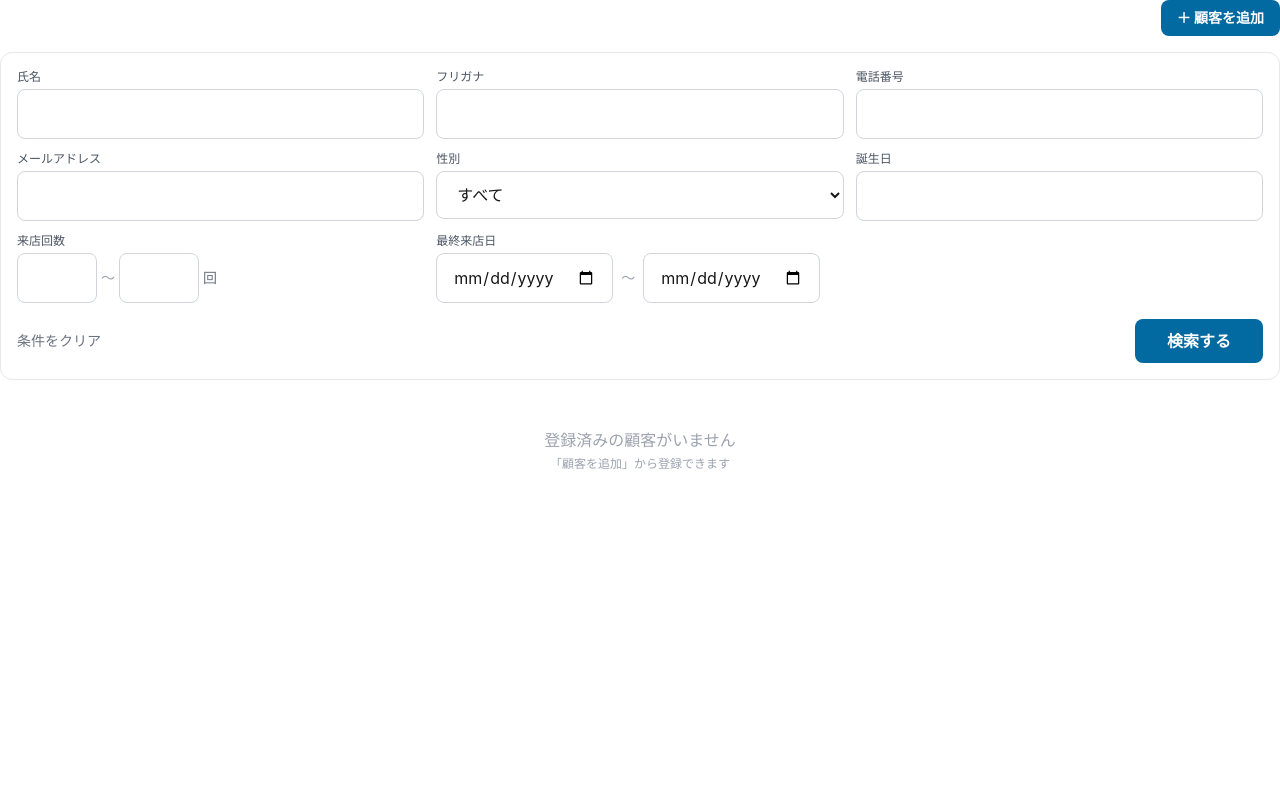
複数施設 → 追加フォームに施設セレクタが出る
What coordinates should you click on to do the following:
click the button "＋ 顧客を追加"
I would click on:
 (1220, 18)
Its box is [1161,0,1279,36].
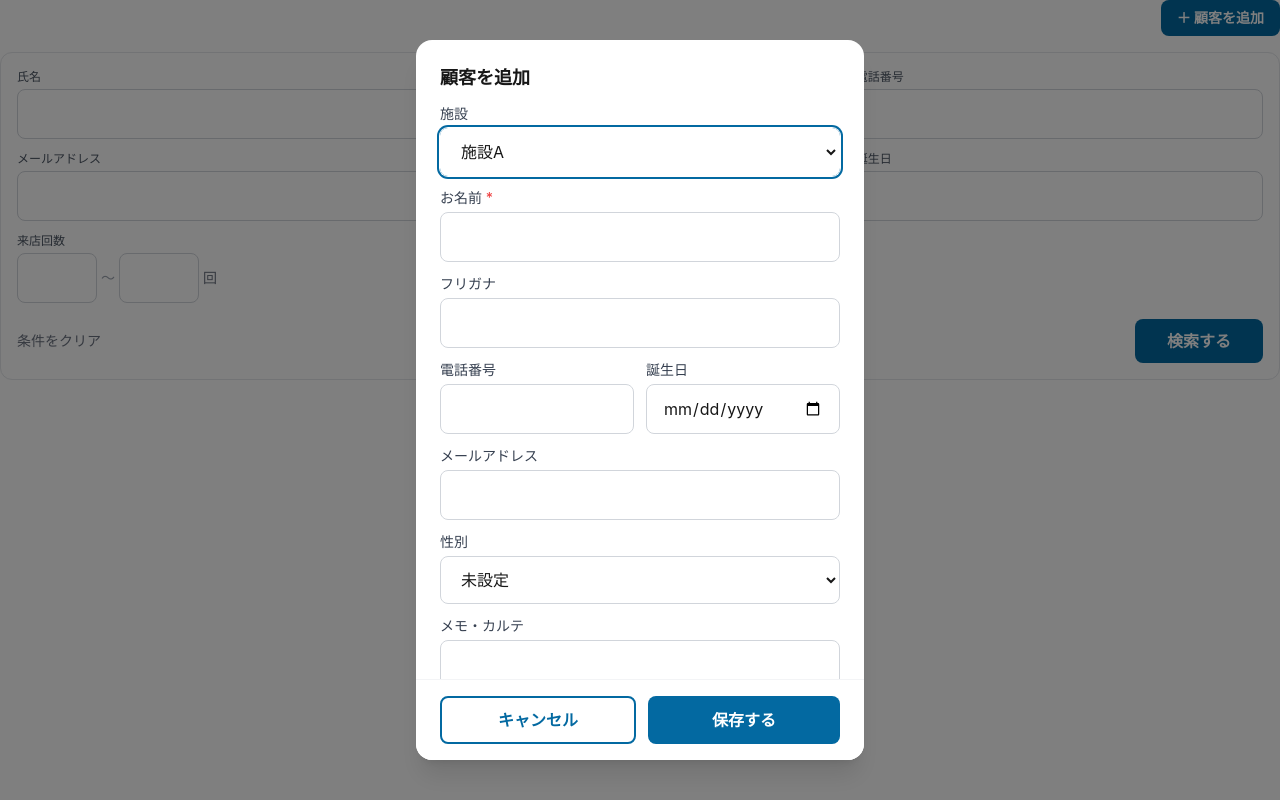
expect the dropdown labelled "施設" shows "施設A": met, box [440,128,840,176]
